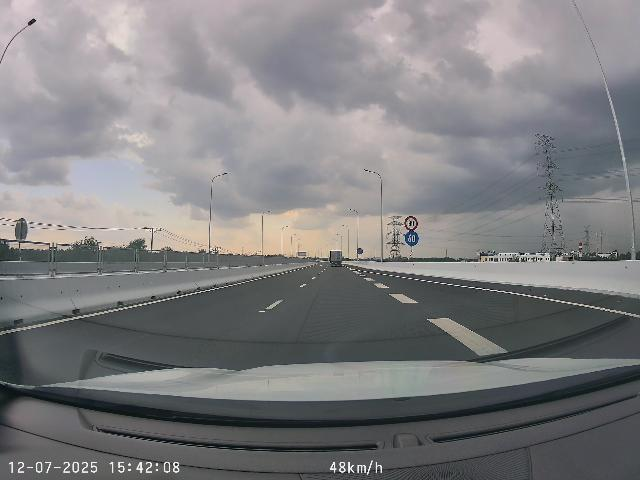127-toc-do-toi-da-80: (404, 216, 418, 231)
306-toc-do-toi-thieu-60: (405, 231, 419, 246)
